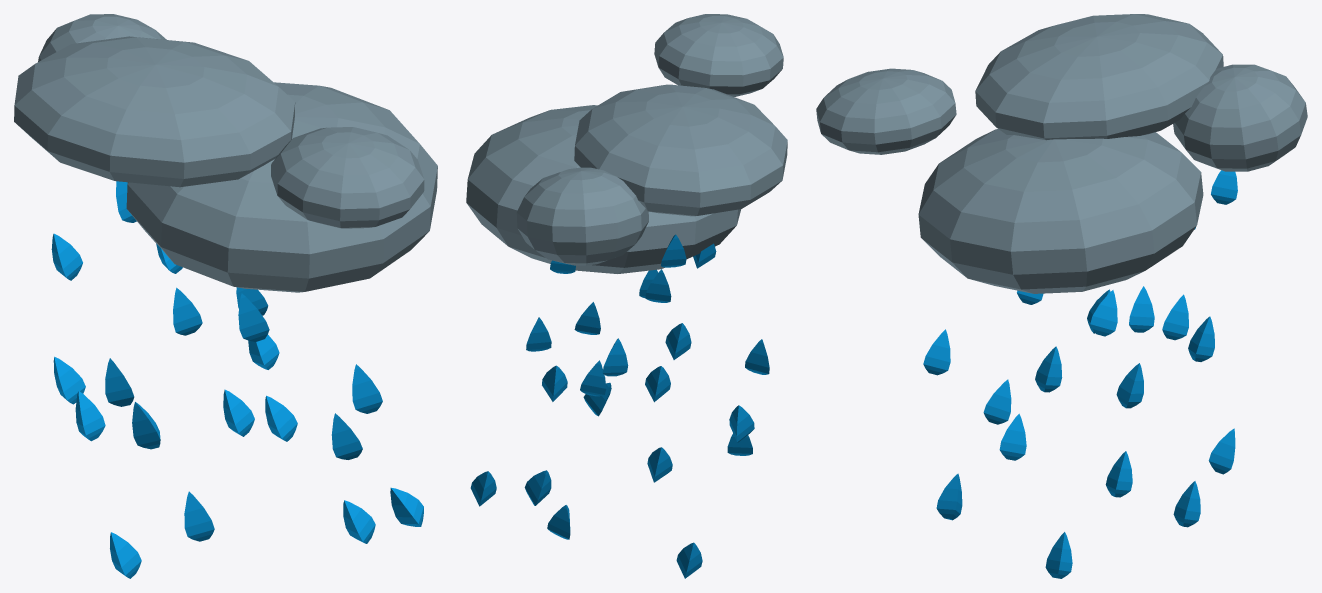
Rendered from rainy.fbx.
The picture shows the model from 3 angles, left to right: view 1: azimuth 30°, elevation 25°; view 2: azimuth 150°, elevation 25°; view 3: azimuth 270°, elevation 25°; orthographic projection. The views are drawn at different scales.
Parts seen in each view (by area): view 1: mesh_725111236, mesh_1138170806, group_829795324, mesh_336385414, mesh_20227969; view 2: mesh_725111236, mesh_1138170806, group_829795324, mesh_20227969, mesh_336385414; view 3: mesh_1138170806, mesh_725111236, group_829795324, mesh_20227969, mesh_336385414.
Part boxes in pixels (x1=…): mesh_725111236: x1=14, y1=36, x2=295, y2=187; mesh_1138170806: x1=126, y1=82, x2=437, y2=292; group_829795324: x1=51, y1=181, x2=423, y2=578; mesh_336385414: x1=271, y1=127, x2=424, y2=228; mesh_20227969: x1=38, y1=14, x2=166, y2=61; mesh_725111236: x1=574, y1=84, x2=787, y2=216; mesh_1138170806: x1=466, y1=105, x2=741, y2=273; group_829795324: x1=470, y1=234, x2=769, y2=578; mesh_20227969: x1=516, y1=167, x2=648, y2=265; mesh_336385414: x1=654, y1=14, x2=783, y2=96; mesh_1138170806: x1=918, y1=129, x2=1203, y2=293; mesh_725111236: x1=975, y1=14, x2=1223, y2=140; group_829795324: x1=923, y1=170, x2=1237, y2=578; mesh_20227969: x1=1173, y1=64, x2=1307, y2=171; mesh_336385414: x1=816, y1=68, x2=956, y2=154.
Size of the model in its own units: 74.88 by 105 by 100.
